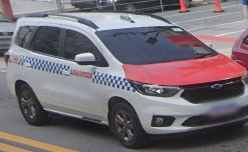car: (5, 15, 248, 147)
